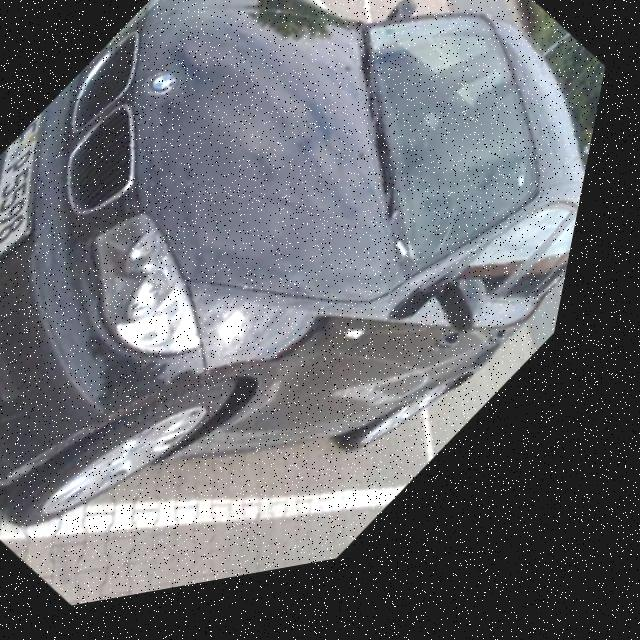license_plate: (0, 98, 121, 278)
